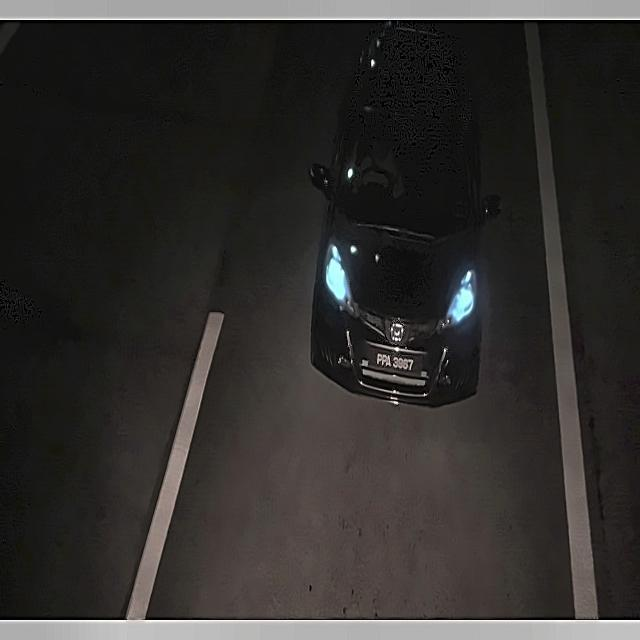car: (371, 346, 417, 378)
